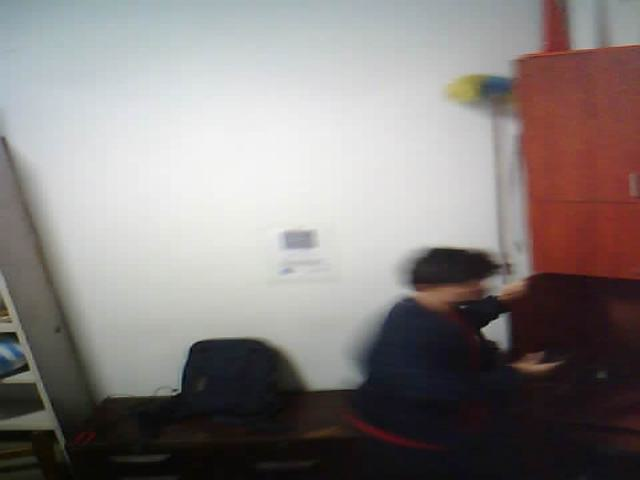person: (325, 223, 581, 480)
